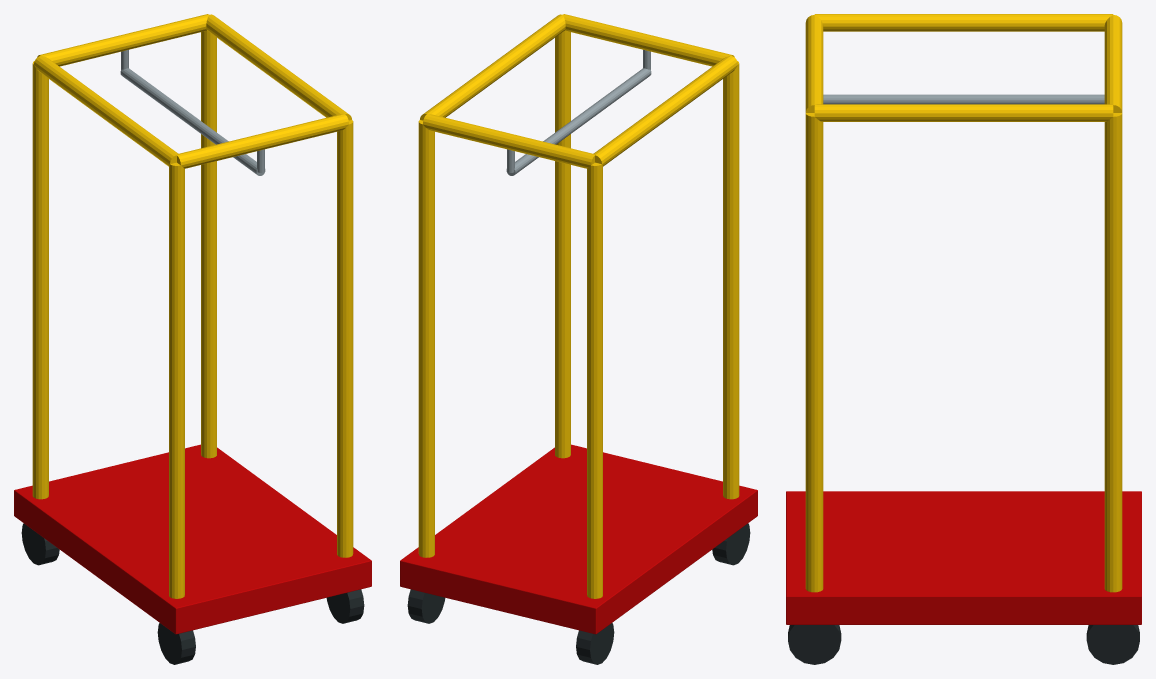
File: hotel-luggage-cart.glb
3 views of the same model, side by side, from view 1: azimuth 30°, elevation 25°; view 2: azimuth 150°, elevation 25°; view 3: azimuth 270°, elevation 25° (orthographic). The views are drawn at different scales.
Visible parts, largest first — view 1: Carpet_Deck, Pillar.002, Pillar.001, Pillar, Pillar.003, Top_Cross_Rail, Top_Long_Rail, Top_Long_Rail.001, Top_Cross_Rail.001, Garment_Bar, Caster.001, Caster.003 (+1 smaller); view 2: Carpet_Deck, Pillar.003, Pillar, Pillar.001, Pillar.002, Top_Cross_Rail.001, Top_Long_Rail, Top_Long_Rail.001, Top_Cross_Rail, Garment_Bar, Caster.002, Caster (+1 smaller); view 3: Carpet_Deck, Pillar.002, Pillar.003, Top_Long_Rail.001, Top_Long_Rail, Garment_Bar, Caster, Caster.003, Top_Cross_Rail, Top_Cross_Rail.001.
Boxes of the visible parts, <box> form: Carpet_Deck: <box>14,444,371,634</box>; Pillar.002: <box>337,120,353,557</box>; Pillar.001: <box>32,61,48,499</box>; Pillar: <box>169,162,184,598</box>; Pillar.003: <box>201,30,216,458</box>; Top_Cross_Rail: <box>177,114,348,168</box>; Top_Long_Rail: <box>34,55,178,166</box>; Top_Long_Rail.001: <box>206,14,351,120</box>; Top_Cross_Rail.001: <box>37,14,208,66</box>; Garment_Bar: <box>120,68,265,175</box>; Caster.001: <box>157,623,195,664</box>; Caster.003: <box>326,589,364,623</box>; Carpet_Deck: <box>400,444,757,634</box>; Pillar.003: <box>418,120,434,557</box>; Pillar: <box>723,61,739,499</box>; Pillar.001: <box>587,162,602,598</box>; Pillar.002: <box>555,30,570,458</box>; Top_Cross_Rail.001: <box>423,114,594,168</box>; Top_Long_Rail: <box>593,55,737,166</box>; Top_Long_Rail.001: <box>420,14,565,120</box>; Top_Cross_Rail: <box>563,14,734,66</box>; Garment_Bar: <box>506,68,651,175</box>; Caster.002: <box>576,623,614,664</box>; Caster: <box>407,589,445,623</box>; Carpet_Deck: <box>786,491,1141,624</box>; Pillar.002: <box>805,113,823,592</box>; Pillar.003: <box>1104,113,1122,592</box>; Top_Long_Rail.001: <box>814,104,1113,121</box>; Top_Long_Rail: <box>814,14,1113,31</box>; Garment_Bar: <box>823,94,1104,104</box>; Caster: <box>1086,625,1139,664</box>; Caster.003: <box>788,625,841,664</box>; Top_Cross_Rail: <box>805,15,823,112</box>; Top_Cross_Rail.001: <box>1104,15,1122,112</box>.
Size of the model in its own units: 0.7 by 1.73 by 1.
